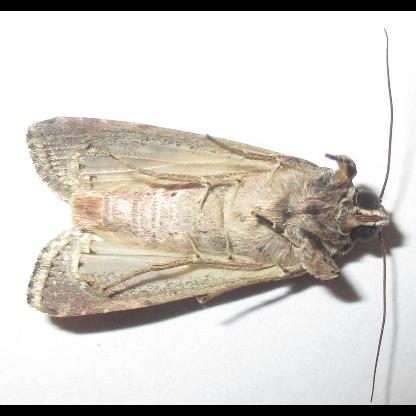Fall Armyworm Moth: (21, 27, 401, 406)
